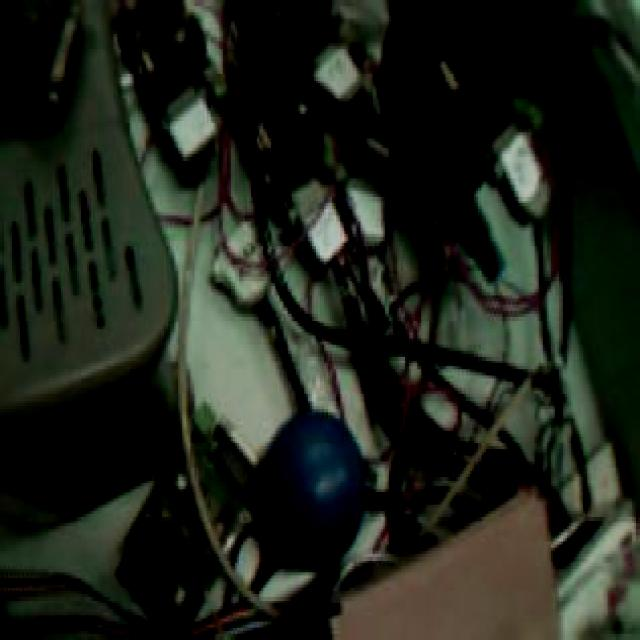BallPurple: (259, 414, 363, 560)
